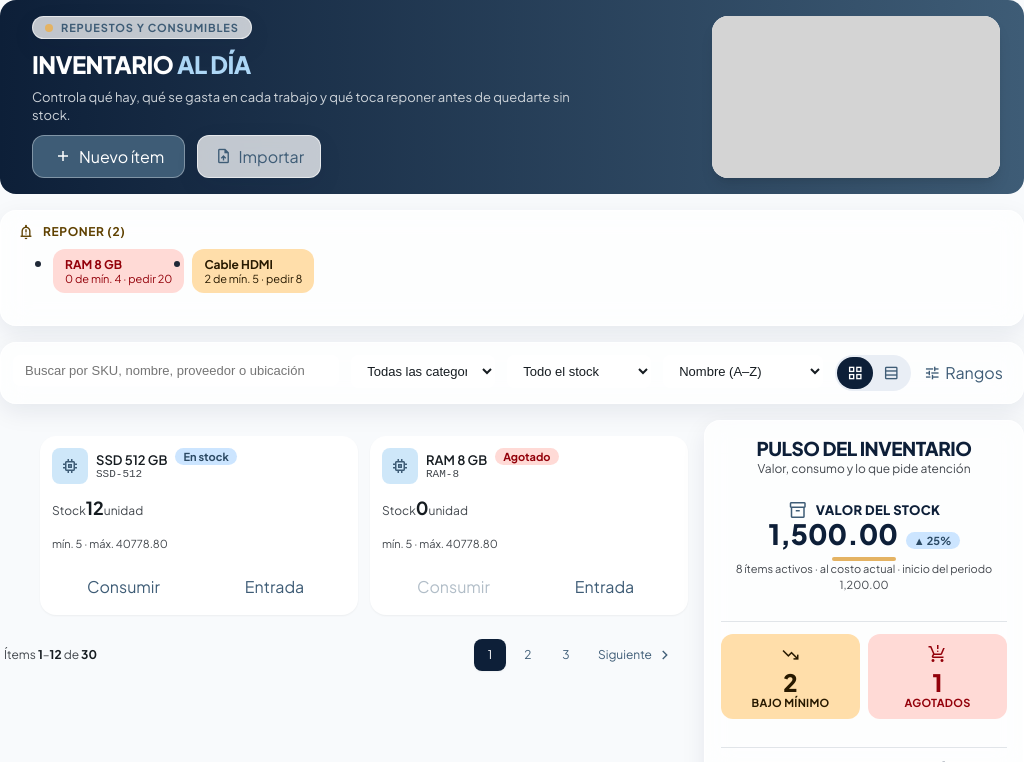
Scenario: InventoryComponent › item form › shows the server message under the field, e.g. a duplicate SKU
The width and height of the screenshot is (1024, 762).
Click the button "Nuevo ítem": x=109, y=156 [32,135,185,178]
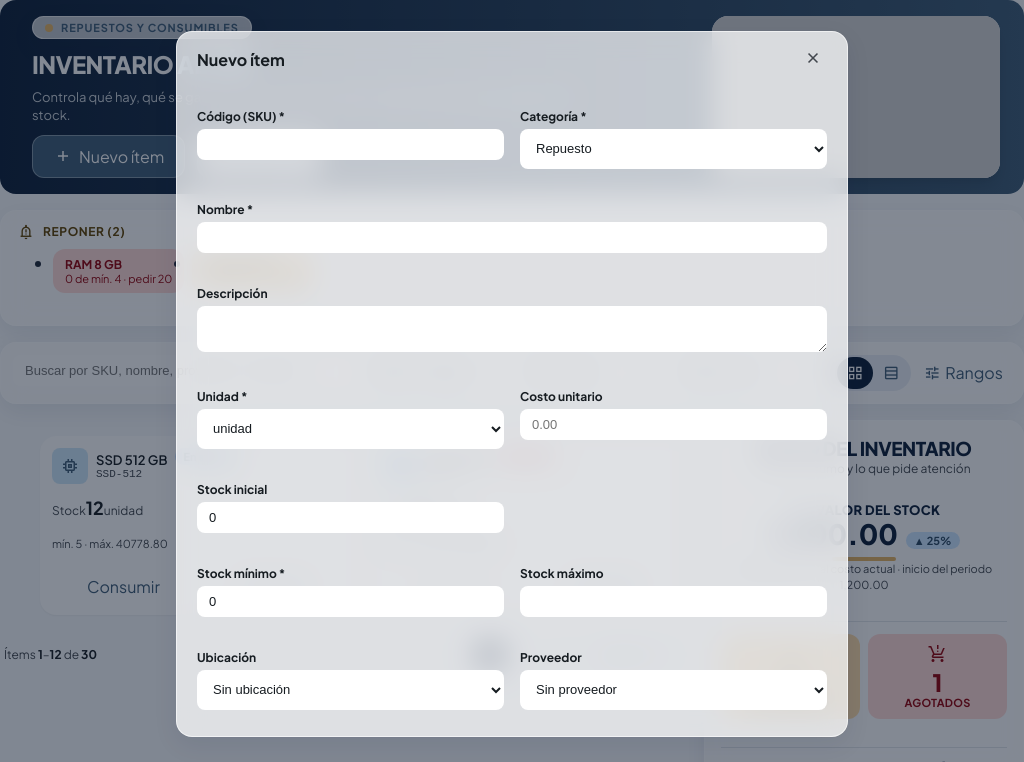
In the field with id "if-sku": x=350, y=144 [197,129,504,160], type "ssd-512"
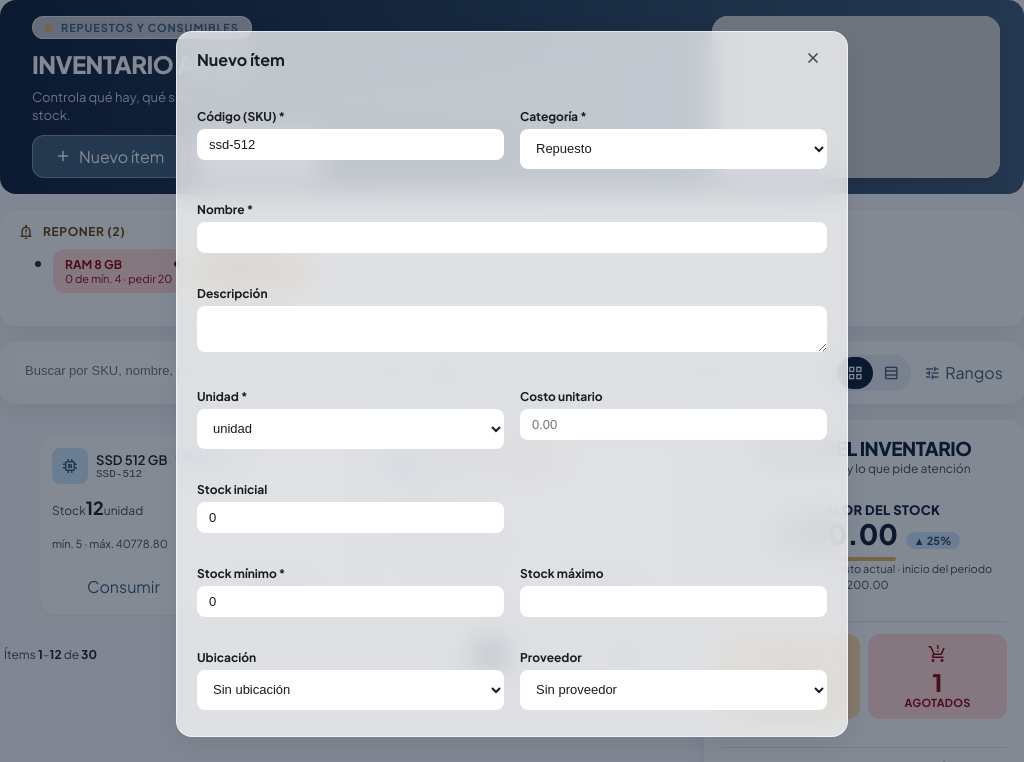
In the field with id "if-name": x=512, y=237 [197,222,827,253], type "SSD 512 GB"
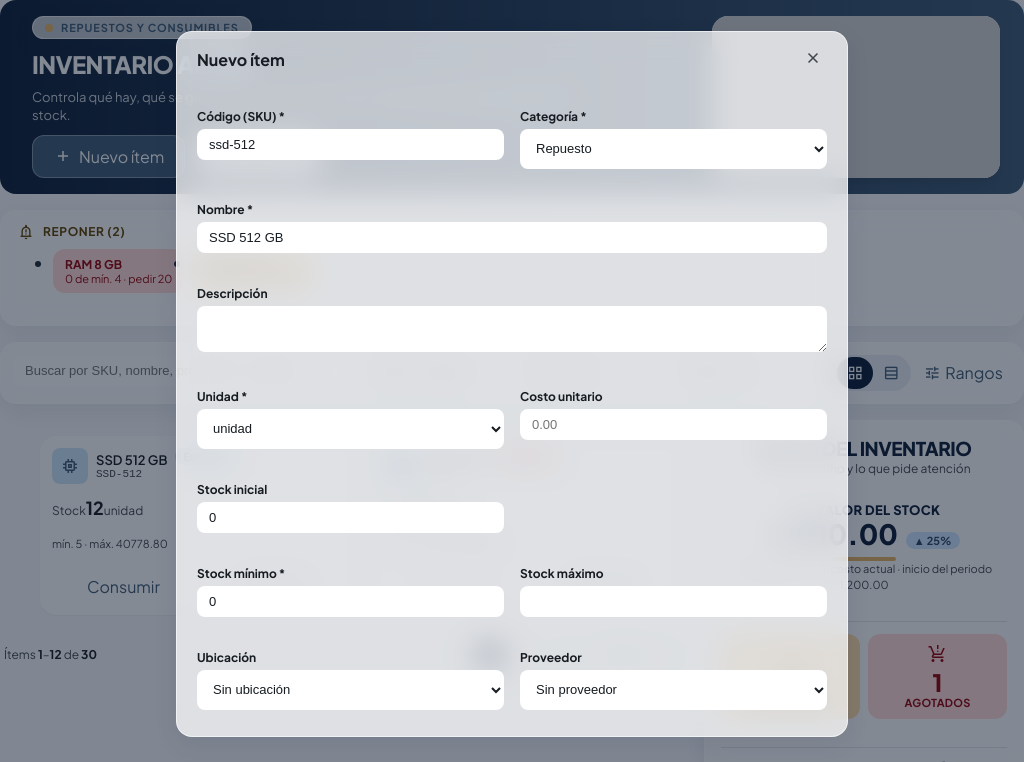
Replace the text in the number field with id "if-min" with "5": x=350, y=601 [197,586,504,617]
(page scrolled)
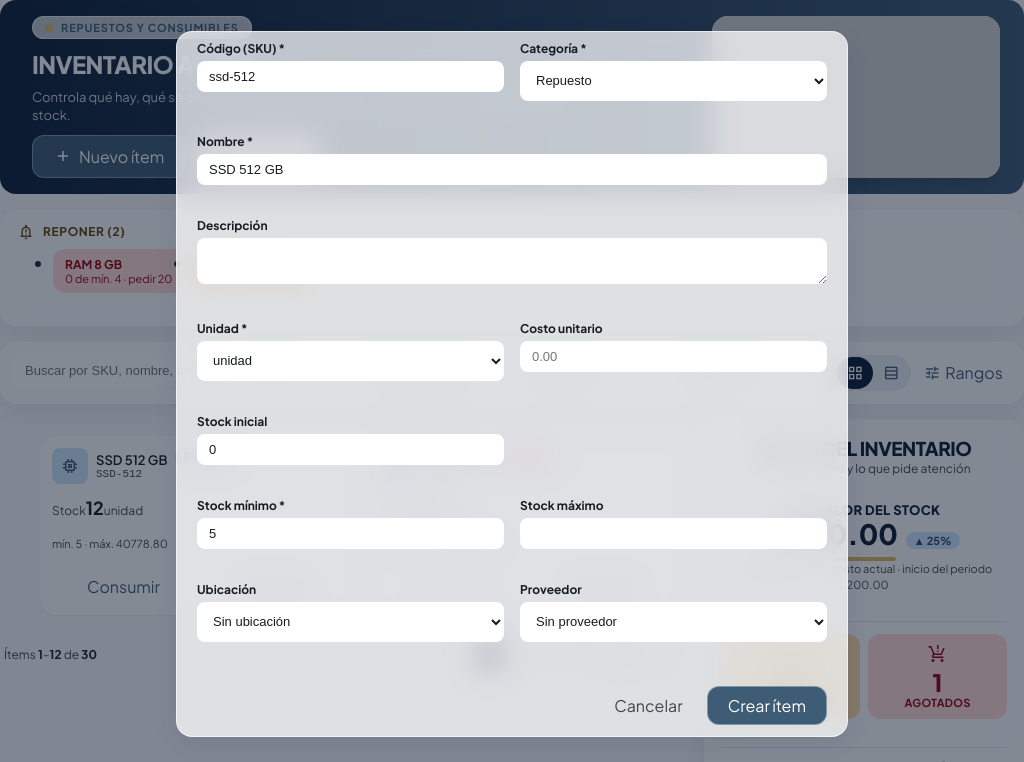
Click the submit button: x=767, y=705 [707,686,827,725]
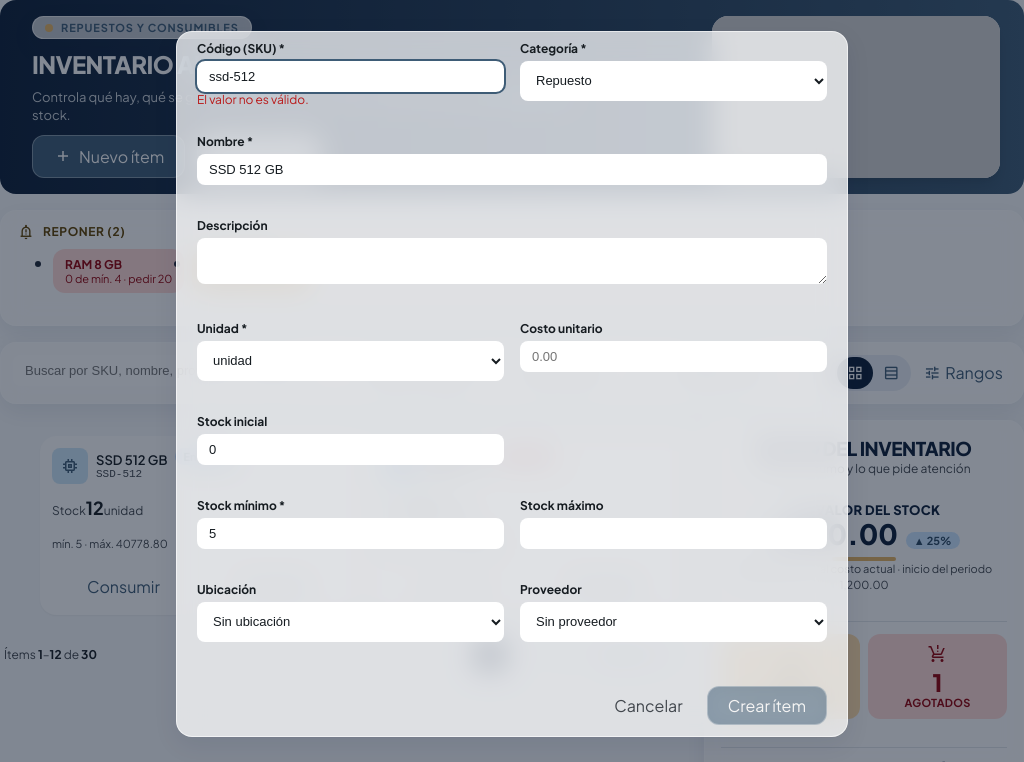
Result: the message "El valor no es válido." is shown at [197,92,309,107]
